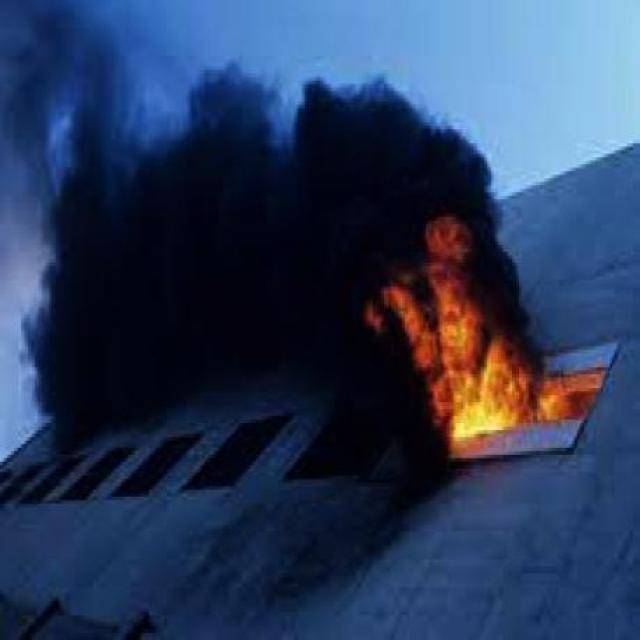Fire: (359, 226, 567, 437)
Smoke: (10, 9, 353, 438), (356, 71, 506, 221)
